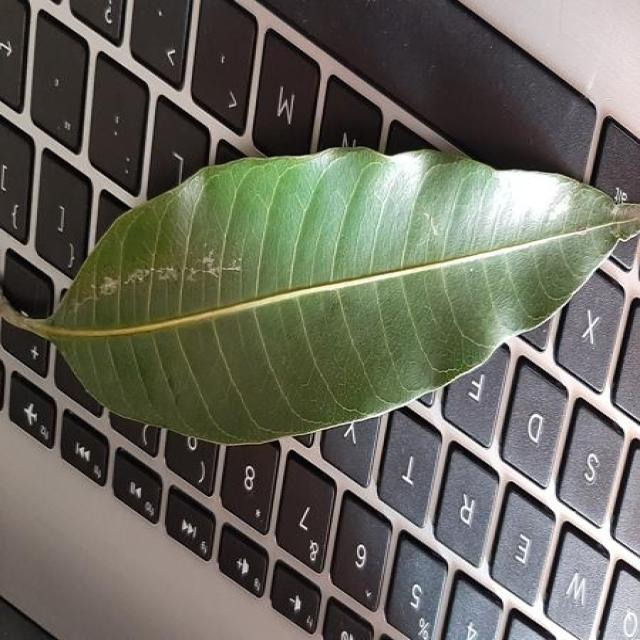mango: (3, 149, 638, 443)
sooty mould: (50, 191, 635, 396)
